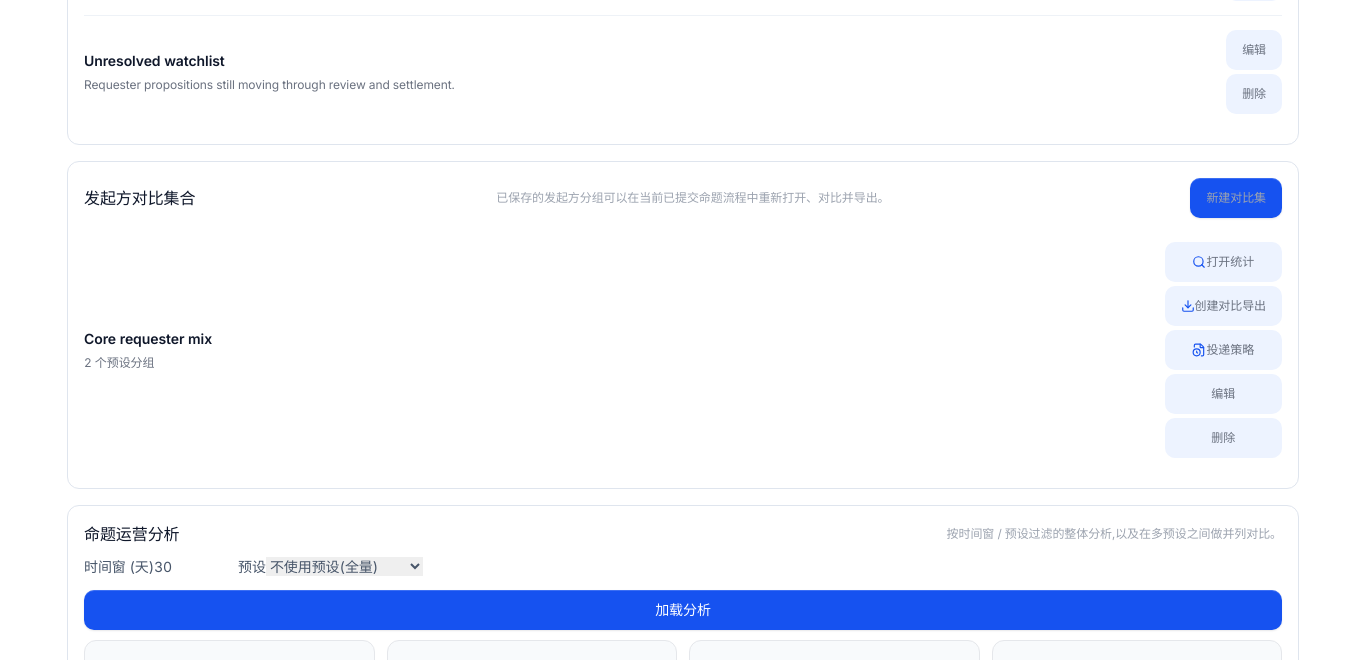
Test case: submissions page › surfaces row-side retained-export evidence before a health panel is opened
(page scrolled)
Click the button with test id "requester-comparison-set-open-delivery" at (1223, 350), box [1164,330,1282,370]
(page scrolled)
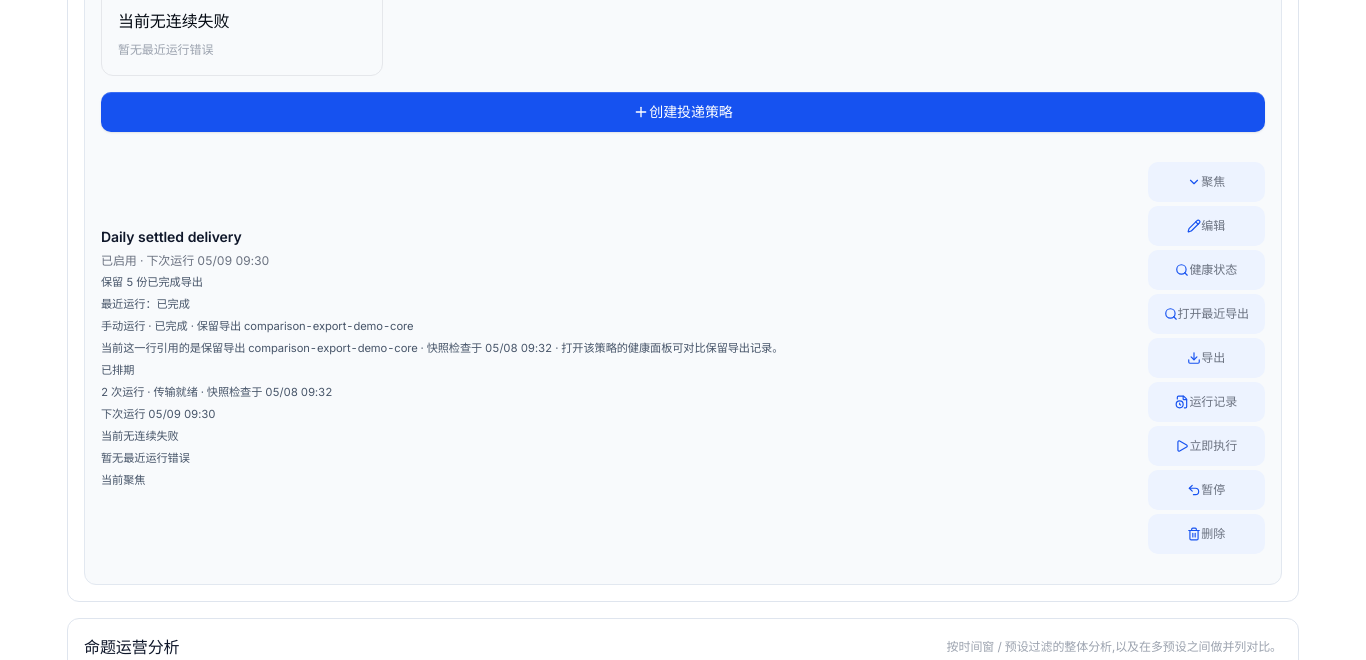
Check: the element with test id "requester-comparison-delivery-policy-item" is shown, box [101,148,1265,568]
Check: the text with test id "requester-comparison-delivery-policy-latest-run-detail" shows "保留导出 comparison-export-demo-core", box [101,319,413,333]
Check: the text with test id "requester-comparison-delivery-policy-export-agreement" shows "当前这一行引用的是保留导出 comparison-export-demo-core", box [101,341,783,355]
